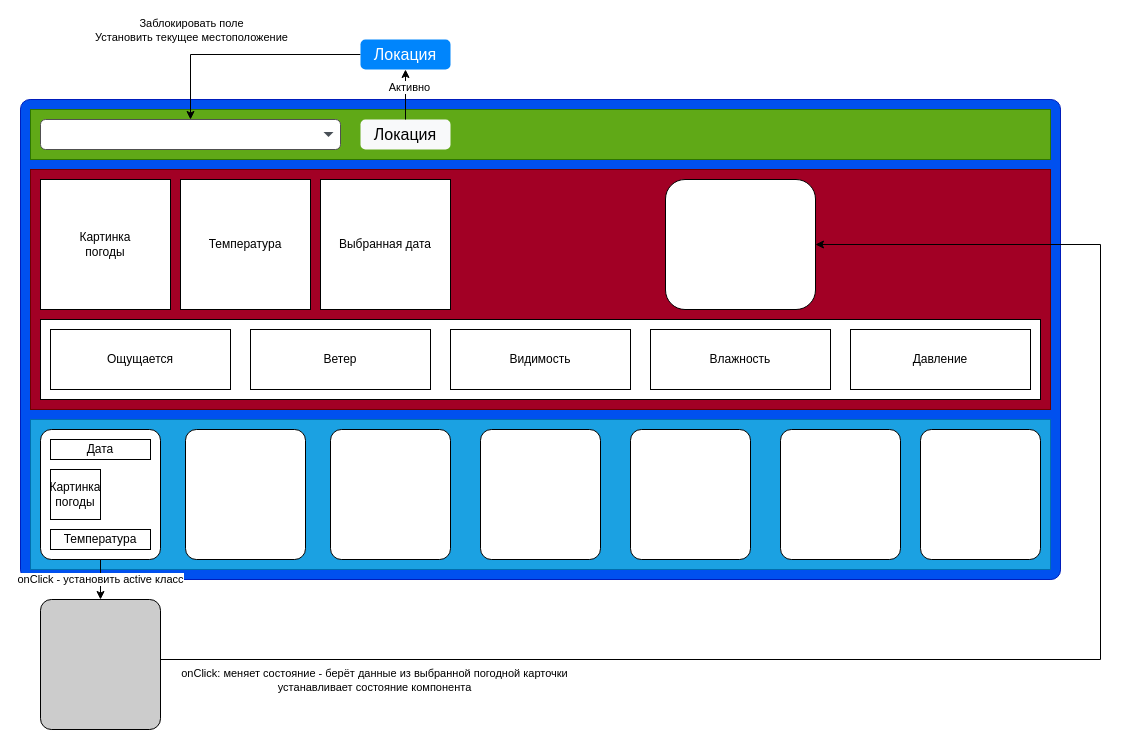
Image size: 1126x747. Some labels were removed from this diagram. The shapes that lost their labels are listed below. From the top down, each one's centre as x and y in pixels, then its label:
At pixel 190 134: "Выбрать город".
At pixel 740 244: "weatherImg: temp feelsLike wind visibility humidity pressure Date".
